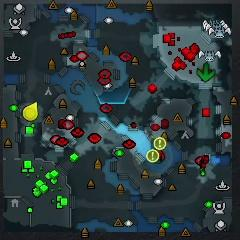p4: (22, 103, 40, 121)
x4: (198, 62, 216, 82)
